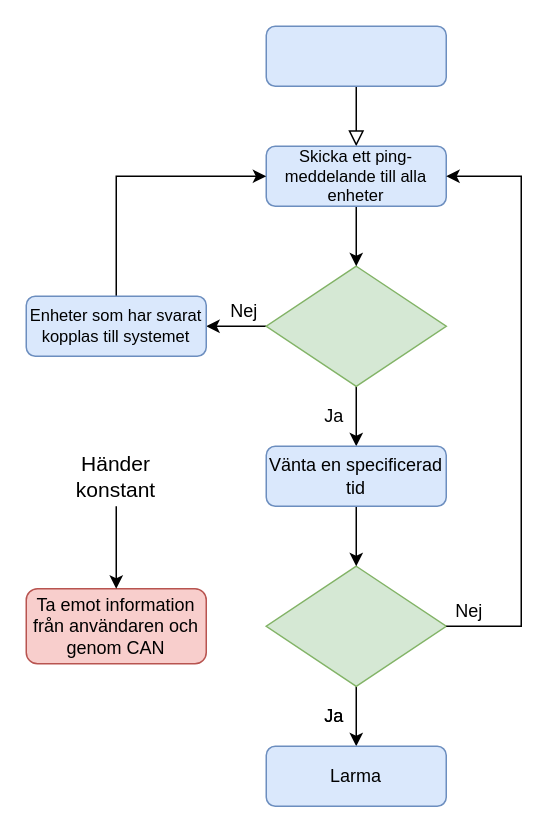
This 560x833 diagram has some shape labels left out. Each missing label, with the centre of its shape:
Har någon enhet inte svarat?: the point at 355,625
Initiera systemet: the point at 355,55
Startup-fasen klar?: the point at 355,325
